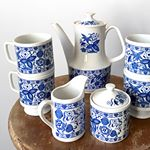cups: (2, 30, 57, 79), (7, 69, 62, 117)
